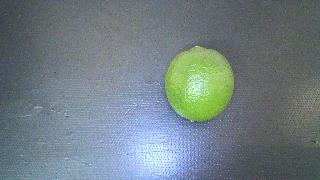EXPORTACION: (165, 46, 234, 122)
